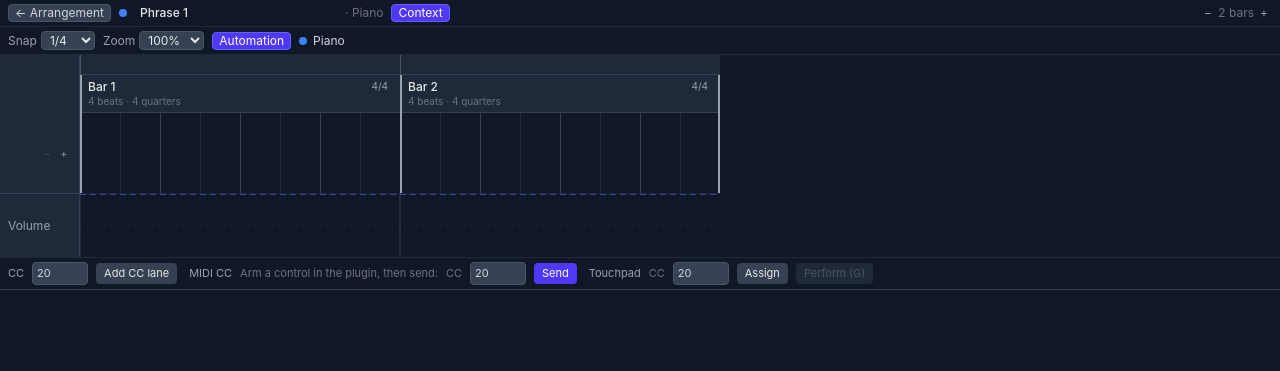
Test: ChordTimeline MIDI CC lanes › removes a lane, and puts its controller back on offer
This screenshot has width=1280, height=371.
Click the button "Send".
click(555, 274)  # box [534,263,577,284]
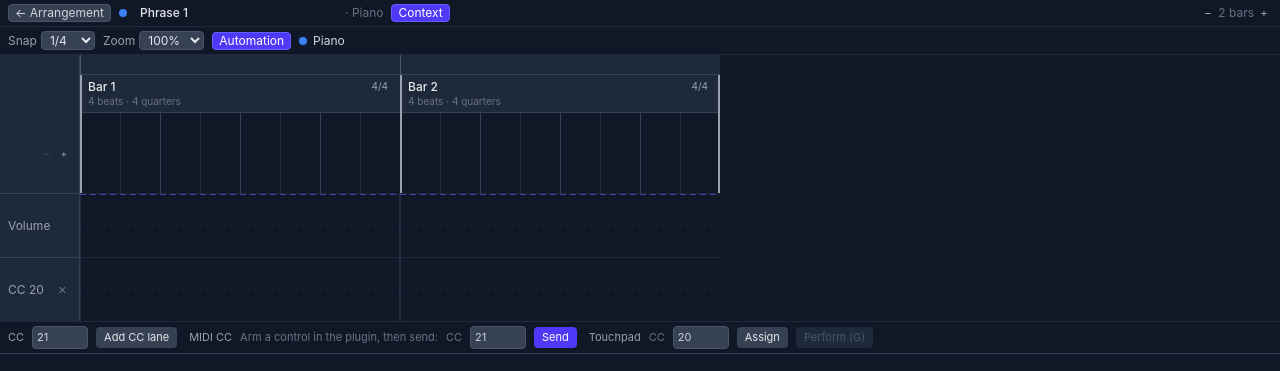
Click the button named "Remove CC 20 automation".
click(62, 290)  # box [54,282,71,297]
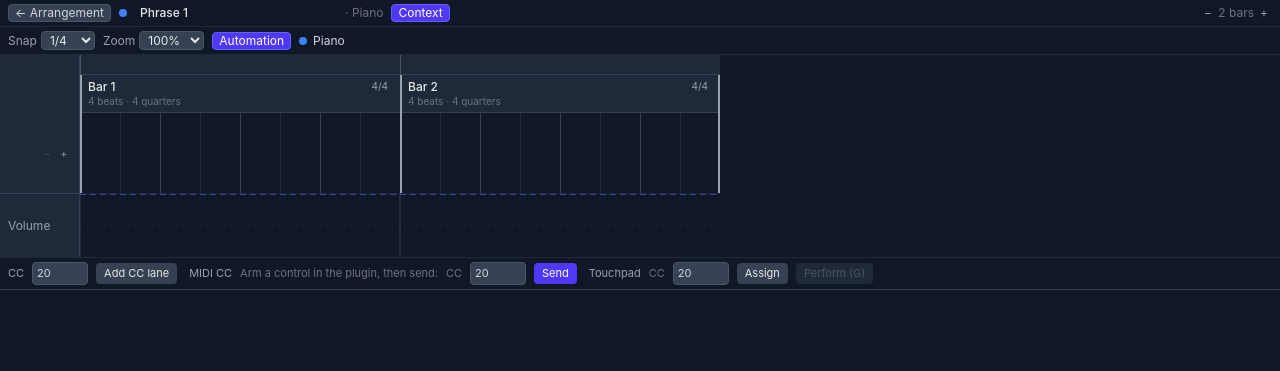
expect the number field named "Controller number to learn" holds "20": met, box [470,262,526,285]
